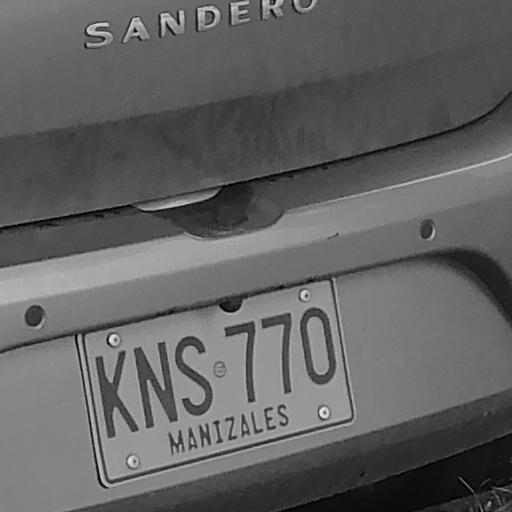placa: (78, 278, 354, 489)
